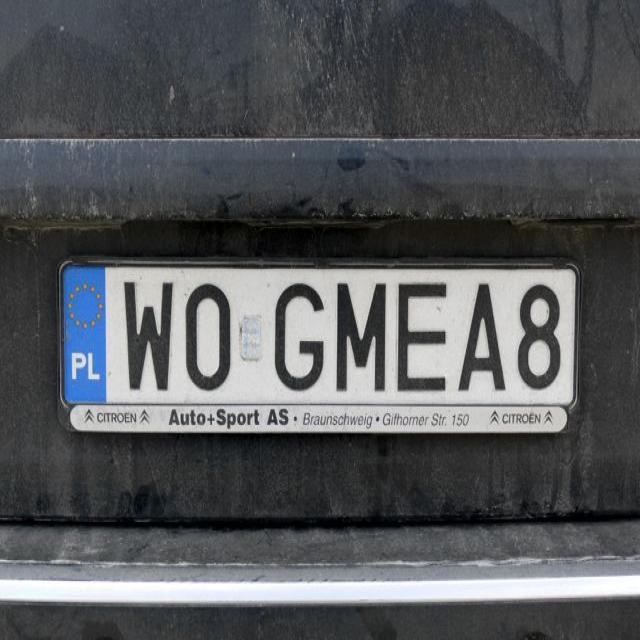pl_license_plate: (61, 262, 573, 404)
